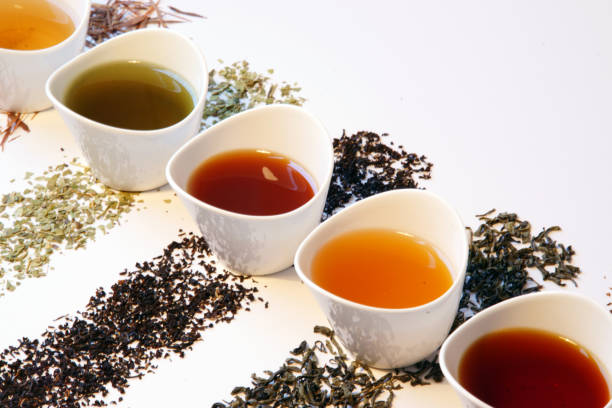Cup: (281, 174, 500, 389), (42, 26, 221, 212)
